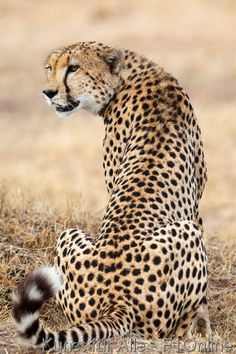Cheetah: (10, 39, 225, 348)
